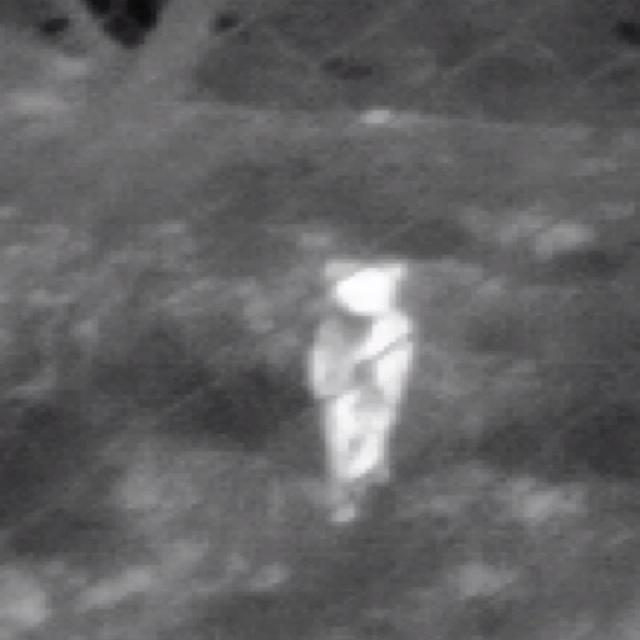cheetah: (309, 260, 412, 522)
